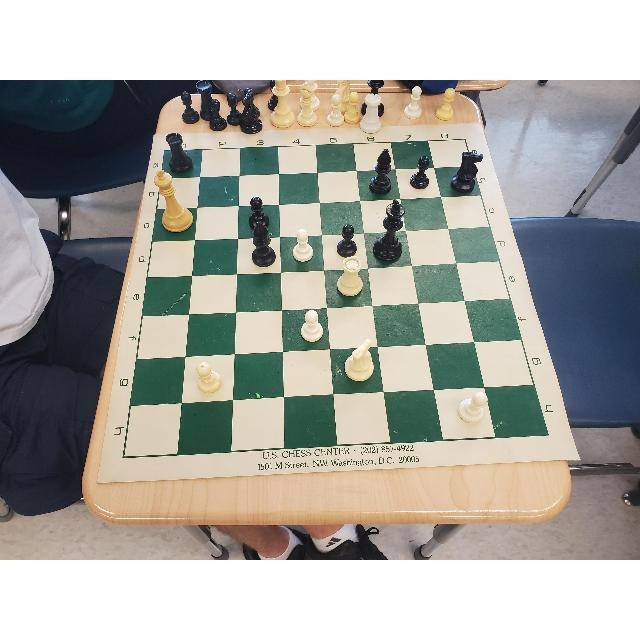black-bishop: (249, 218, 276, 268), (367, 146, 392, 194)
black-king: (370, 199, 408, 265)
black-knight: (448, 149, 484, 195)
black-pawn: (409, 155, 433, 191), (335, 223, 358, 258), (247, 196, 270, 230)
black-rook: (163, 132, 195, 174)
white-king: (153, 167, 195, 235)
white-knight: (341, 338, 378, 384)
white-pawn: (454, 391, 489, 425), (298, 309, 326, 344), (299, 308, 325, 344), (292, 227, 315, 265), (195, 362, 223, 392)
white-rook: (336, 253, 363, 297)
